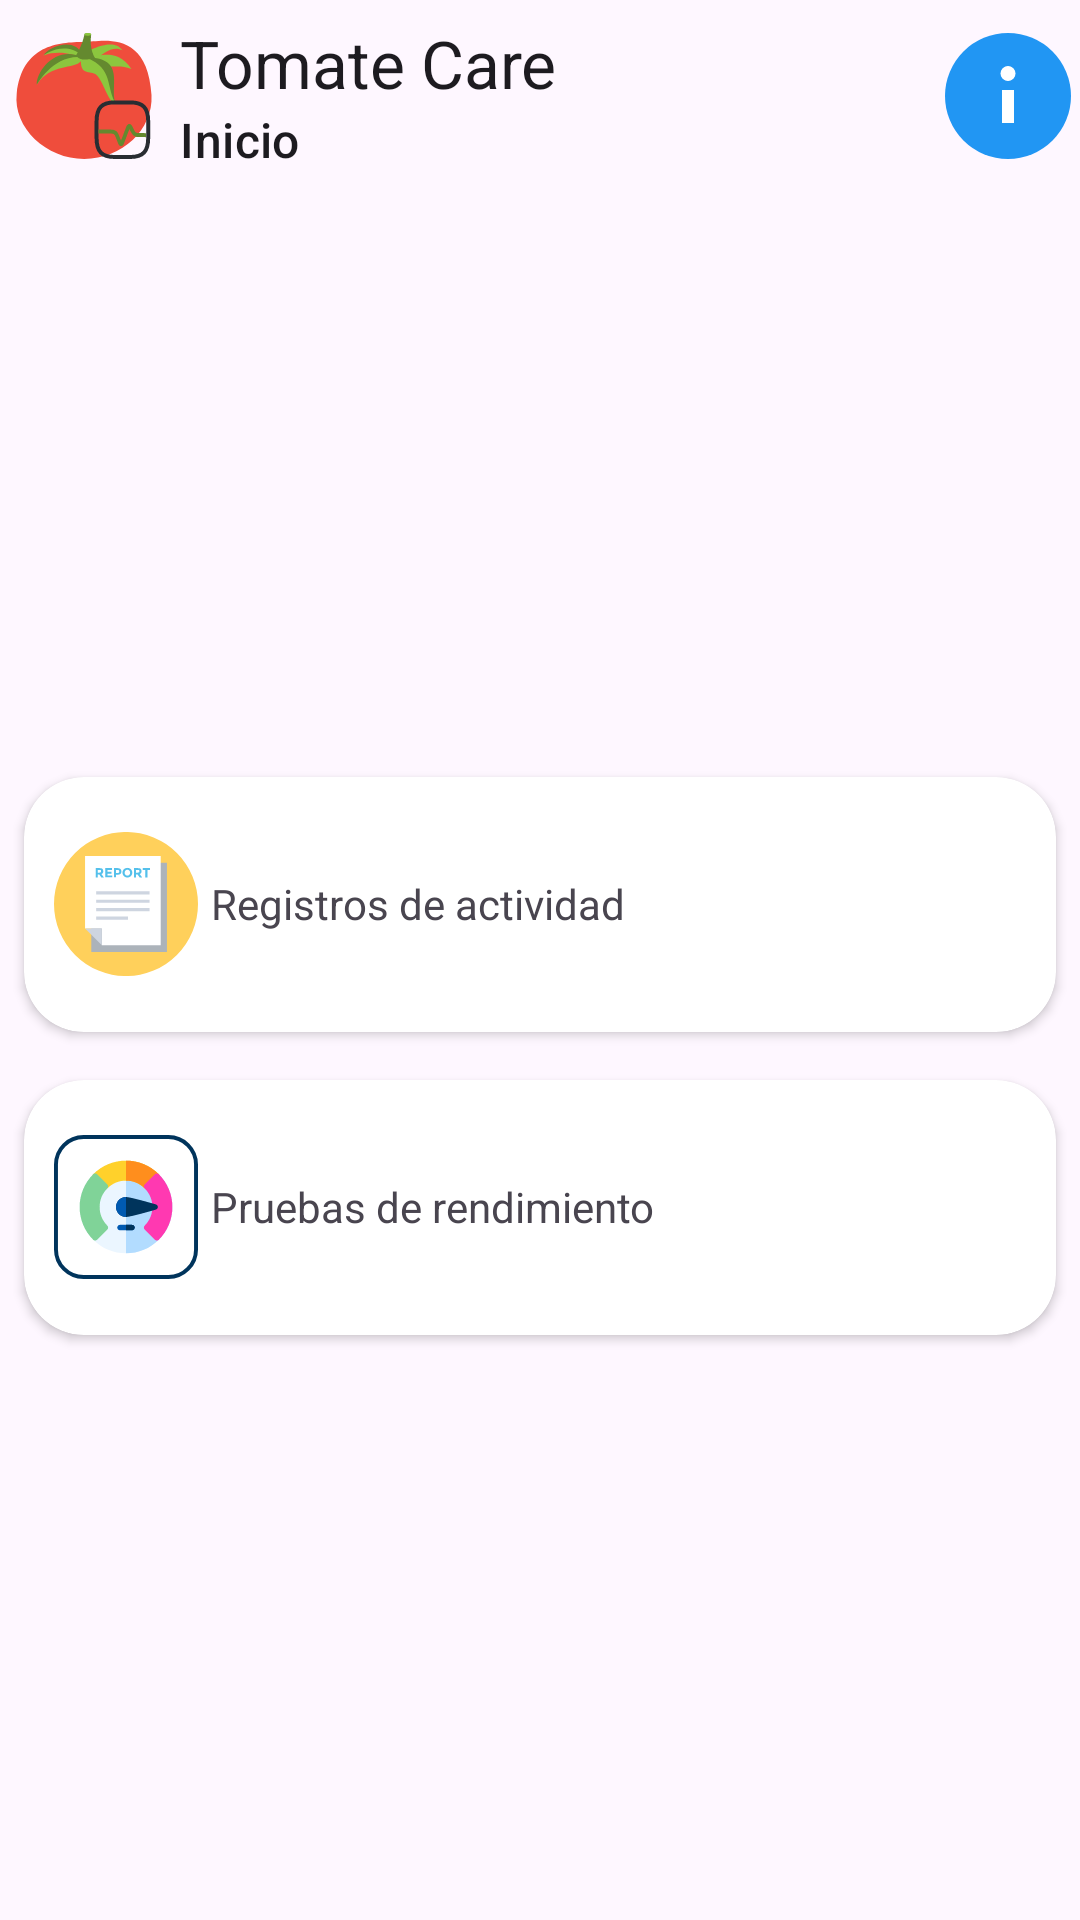

Icon click points for this 1080 × 1920 phone screenshot, format (x=x, y=y):
info: (x=1008, y=96)
